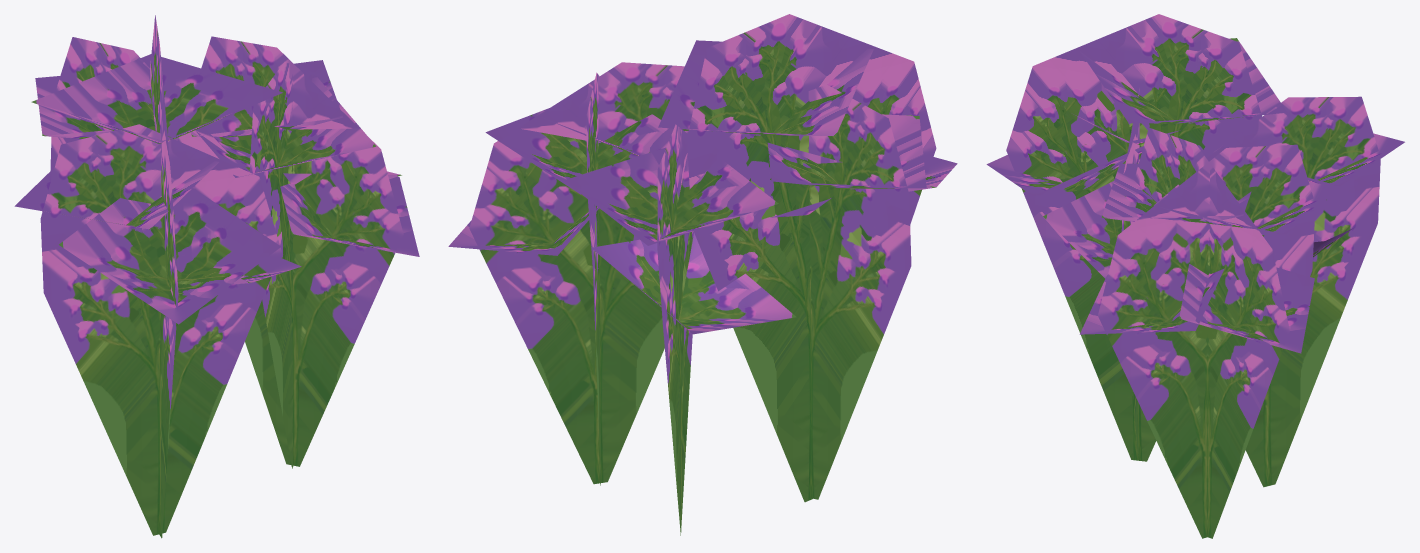
Rendered from SM_Flower_10_03.fbx.
The picture shows the model from 3 angles, left to right: view 1: azimuth 30°, elevation 25°; view 2: azimuth 150°, elevation 25°; view 3: azimuth 270°, elevation 25°; orthographic projection. The views are drawn at different scales.
Parts seen in each view (by area): view 1: SM_Flower_10_03_LOD0; view 2: SM_Flower_10_03_LOD0; view 3: SM_Flower_10_03_LOD0.
Part boxes in pixels (box(x1,y1,x2,y2)): SM_Flower_10_03_LOD0: box(14, 15, 419, 538); SM_Flower_10_03_LOD0: box(448, 14, 957, 535); SM_Flower_10_03_LOD0: box(986, 14, 1404, 538).
Size of what is drawn, in the model's own units: 75.47 by 86.99 by 73.18.
